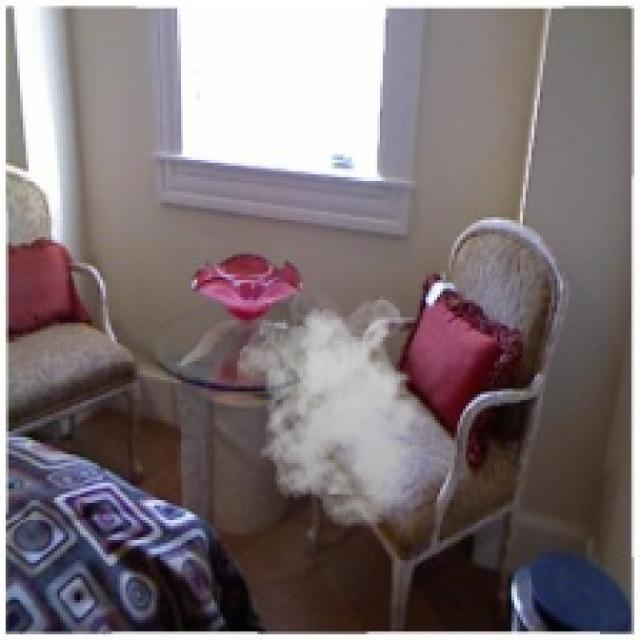Smoke: (237, 292, 440, 528)
